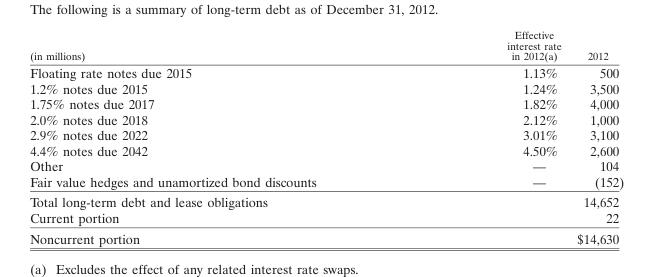table: (29, 28, 623, 245)
table column: (29, 28, 411, 245), (411, 28, 568, 245), (568, 28, 623, 245)
table column header: (29, 28, 623, 63)
table row: (29, 28, 623, 63), (29, 173, 623, 191), (29, 191, 623, 209), (29, 209, 623, 227), (29, 227, 623, 245), (29, 63, 623, 80), (29, 95, 623, 111), (29, 126, 623, 142), (29, 157, 623, 173), (29, 80, 623, 95), (29, 111, 623, 126), (29, 142, 623, 157)
